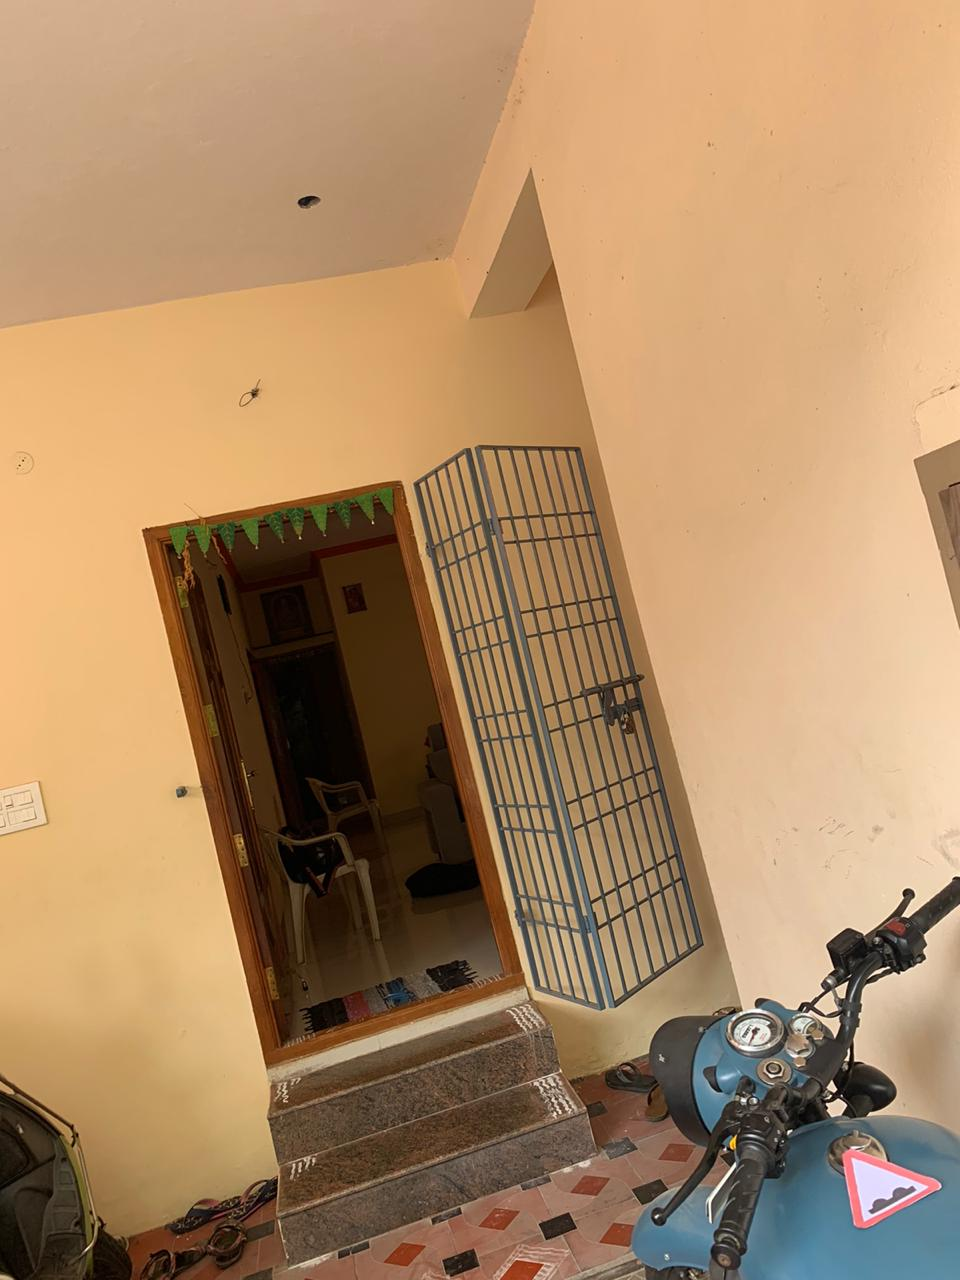UNEVEN ROAD: (817, 1098, 951, 1241)
